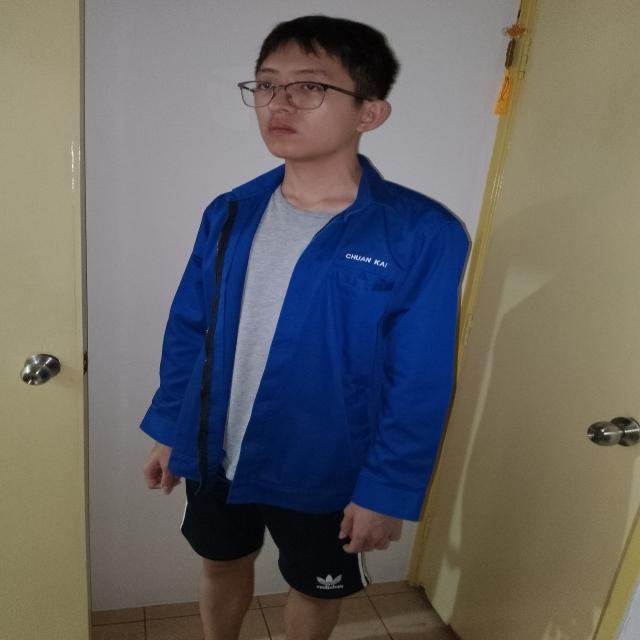person_with_labcoat: (141, 16, 468, 640)
